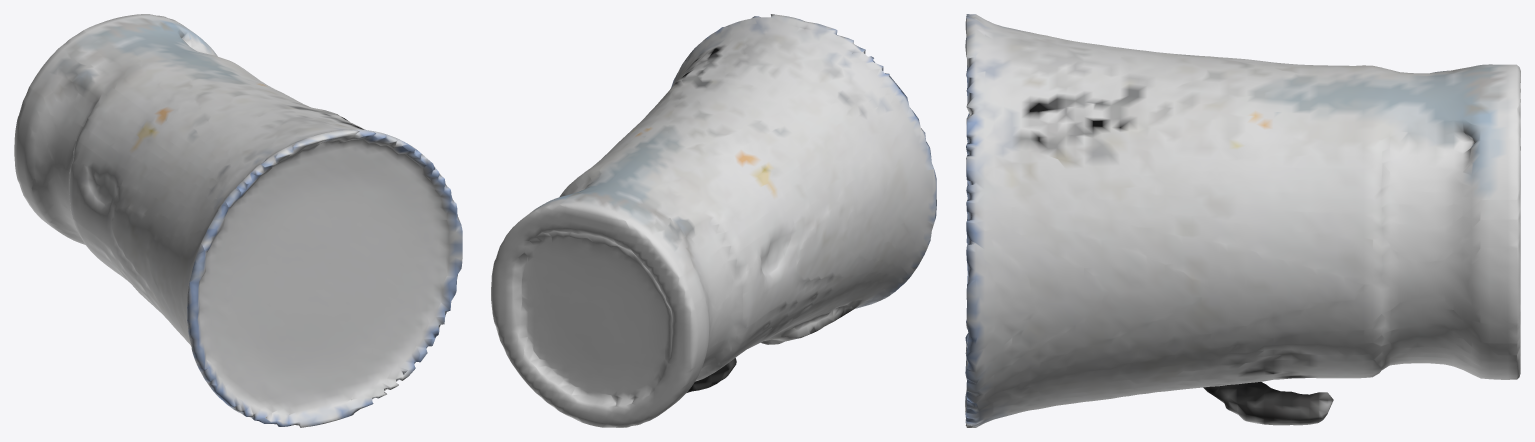
The model's file is a trash can with contain affordance.obj.
3 views of the same model, side by side, from view 1: azimuth 30°, elevation 25°; view 2: azimuth 150°, elevation 25°; view 3: azimuth 270°, elevation 25° (orthographic). The views are drawn at different scales.
Size of the model in its own units: 0.7404 by 0.7637 by 0.9984.
